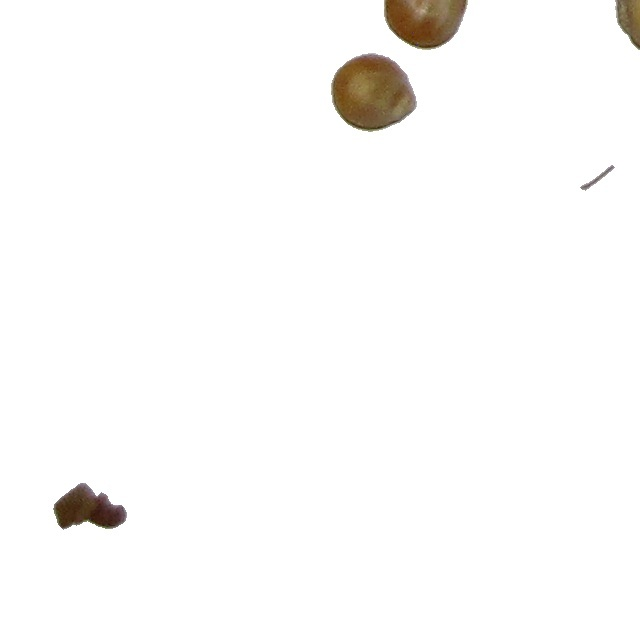buckwheat: (52, 485, 128, 534)
dill: (579, 164, 616, 192)
mais: (330, 52, 418, 133)
